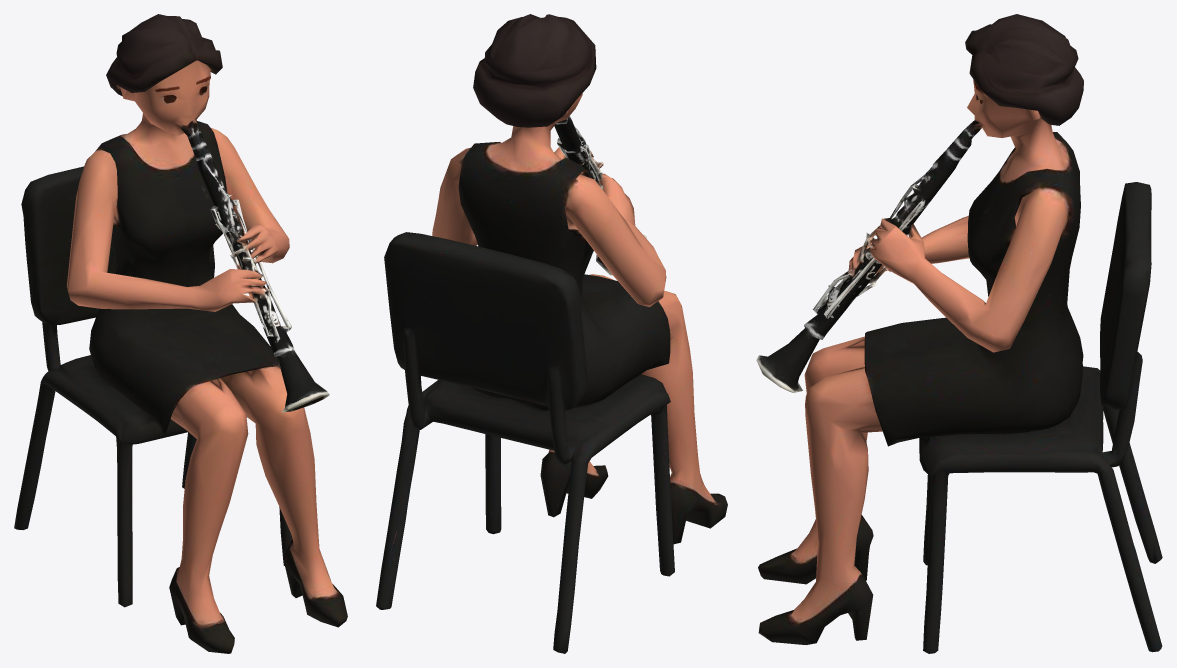
File: clarinetist.glb
3 views of the same model, side by side, from view 1: azimuth 30°, elevation 25°; view 2: azimuth 150°, elevation 25°; view 3: azimuth 270°, elevation 25° (orthographic). The views are drawn at different scales.
Parts seen in each view (by area): view 1: tripo_node_3af71776-814f-49e1-8abb-33e1bded94f5; view 2: tripo_node_3af71776-814f-49e1-8abb-33e1bded94f5; view 3: tripo_node_3af71776-814f-49e1-8abb-33e1bded94f5.
Part boxes in pixels (box(x1,y1,x2,y2)): tripo_node_3af71776-814f-49e1-8abb-33e1bded94f5: box(14, 14, 347, 653); tripo_node_3af71776-814f-49e1-8abb-33e1bded94f5: box(376, 14, 727, 653); tripo_node_3af71776-814f-49e1-8abb-33e1bded94f5: box(756, 14, 1162, 653).
Bounding box in the file's own units: 0.5304 × 1.25 × 0.783.
1 material, 1 textured.
